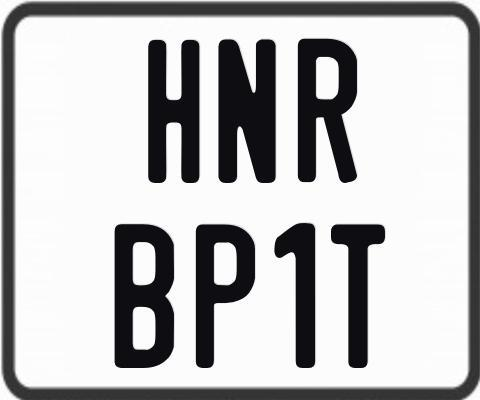1: (271, 222, 313, 370)
B: (112, 222, 176, 371)
H: (148, 37, 202, 183)
N: (216, 36, 277, 181)
P: (195, 224, 259, 369)
R: (298, 36, 362, 184)
T: (329, 224, 389, 369)
